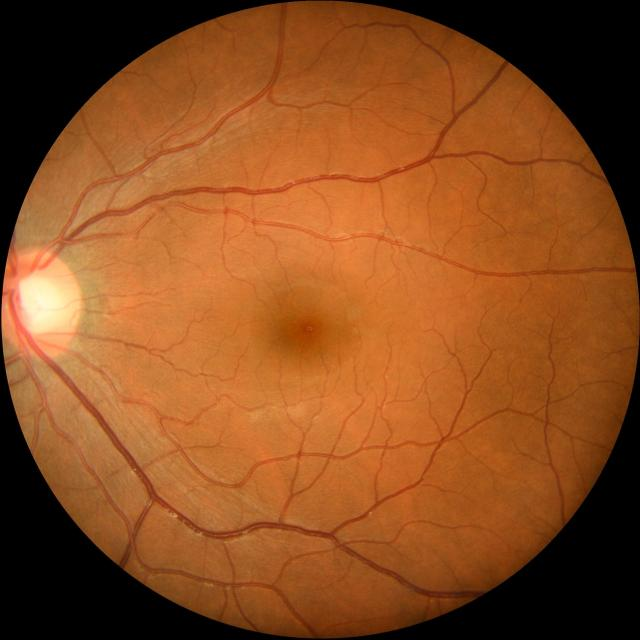OC: (14, 272, 66, 335)
OD: (0, 246, 81, 360)
